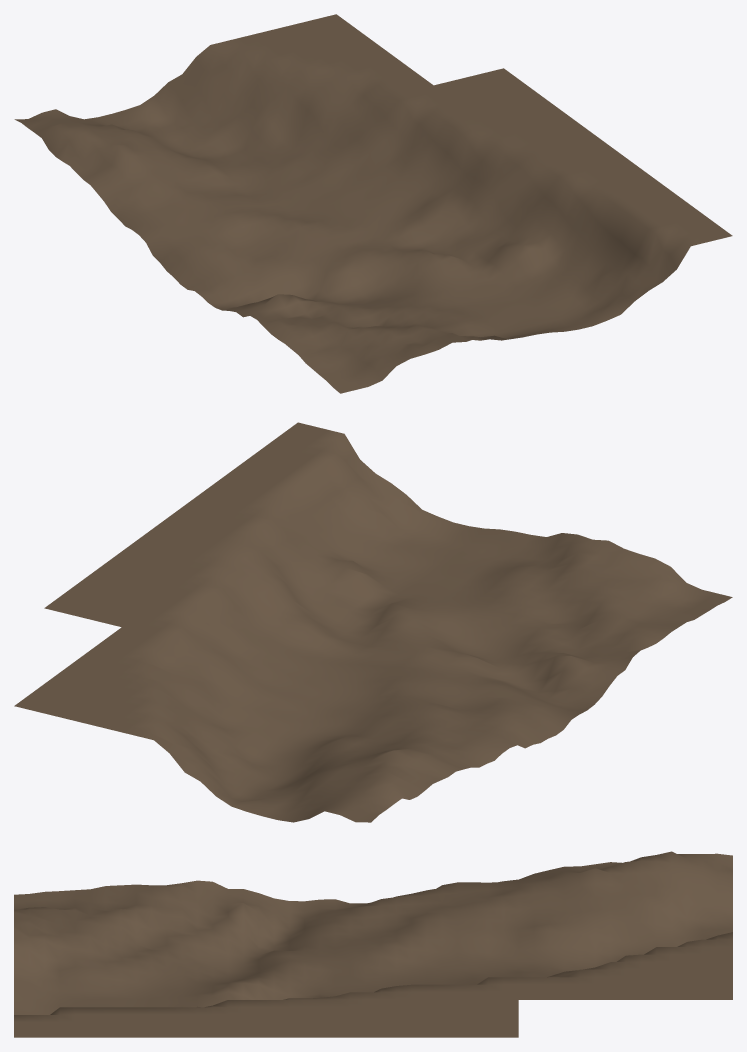
The model's file is SeabedFugloya.fbx.
3 views of the same model, one above another, from view 1: azimuth 30°, elevation 25°; view 2: azimuth 150°, elevation 25°; view 3: azimuth 270°, elevation 25° (orthographic). The views are drawn at different scales.
Parts seen in each view (by area): view 1: Seabed; view 2: Seabed; view 3: Seabed.
Part boxes in pixels (x1,y1,x2,y2): Seabed: [14, 14, 732, 393]; Seabed: [14, 422, 732, 822]; Seabed: [14, 851, 732, 1037].
Size of the model in its own units: 6527 by 1194 by 9400.
